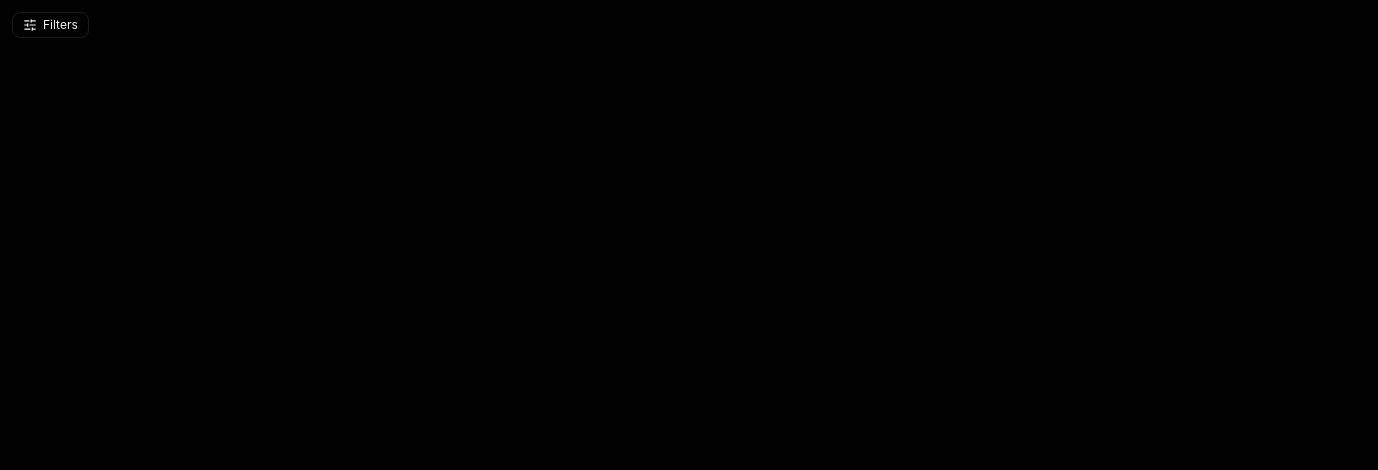
Scenario: FilterMenu and FilterChips › keeps the panel closed until asked (§28)
Click the button "Filters".
click(50, 25)  # box [12,12,89,38]
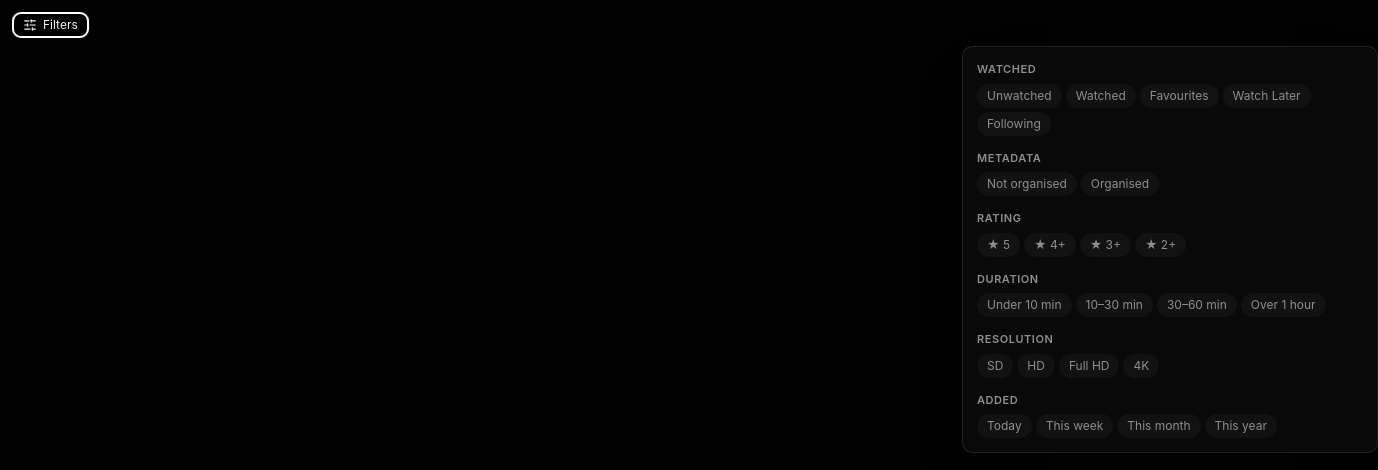
expect the element named "Filters" is shown: met, box [962,46,1377,453]
